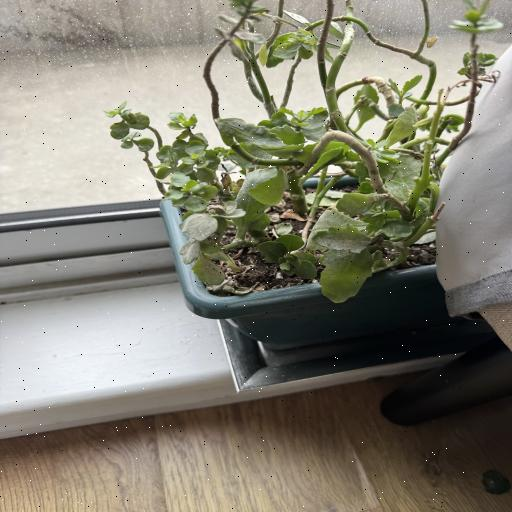Plant Pot: (157, 176, 438, 350)
